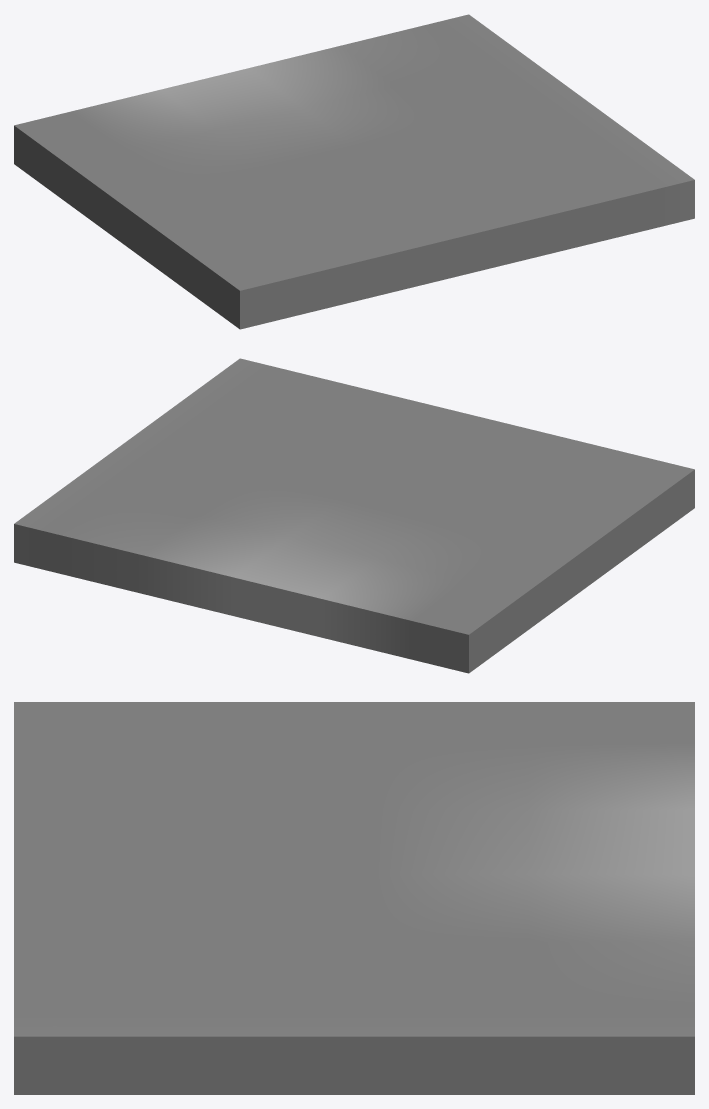
The model's file is prop_Elevator_EM_B.fbx.
The picture shows the model from 3 angles, top to bottom: view 1: azimuth 30°, elevation 25°; view 2: azimuth 150°, elevation 25°; view 3: azimuth 270°, elevation 25°; orthographic projection. The views are drawn at different scales.
Visible parts, largest first — view 1: prop_Elevator_EM_B; view 2: prop_Elevator_EM_B; view 3: prop_Elevator_EM_B.
Part boxes in pixels (x1,y1,x2,y2): prop_Elevator_EM_B: [14, 14, 694, 329]; prop_Elevator_EM_B: [14, 358, 694, 673]; prop_Elevator_EM_B: [14, 702, 694, 1094].
Bounding box in the file's own units: 394 × 32 × 339.
